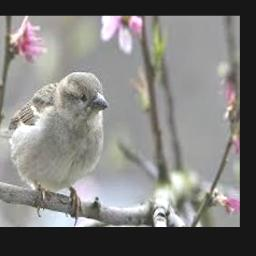Sparrow: (0, 71, 110, 224)
